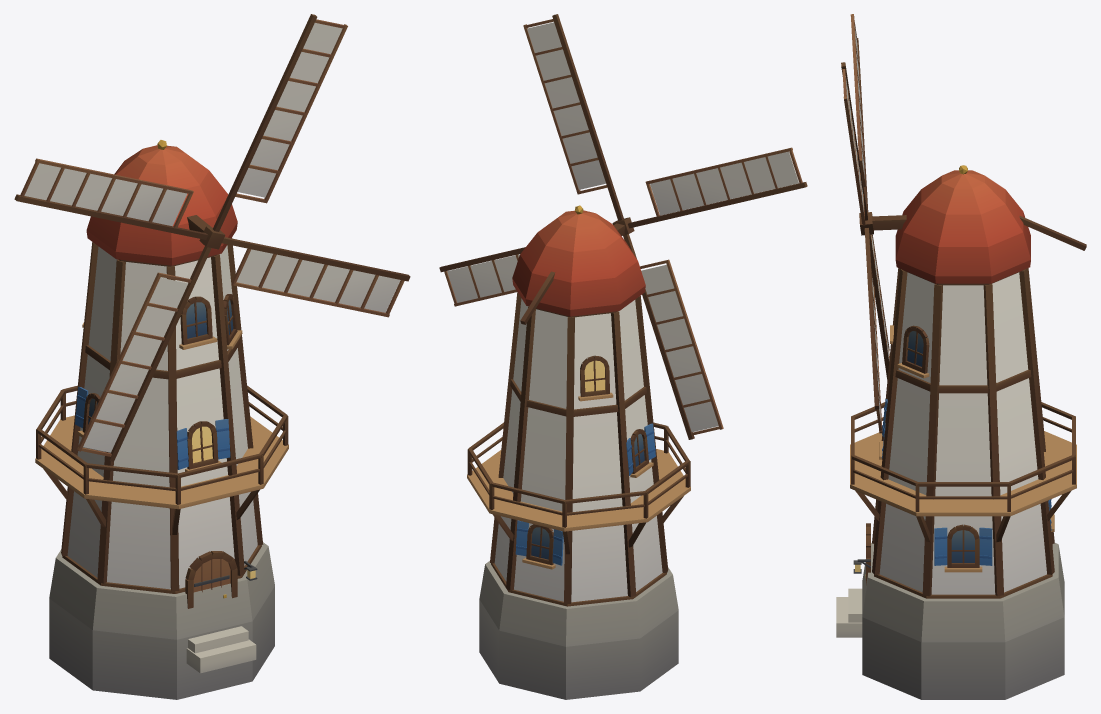
File: lm_windmill.glb
3 renders of one model, left to right at view 1: azimuth 30°, elevation 25°; view 2: azimuth 150°, elevation 25°; view 3: azimuth 270°, elevation 25°, orthographic. The views are drawn at different scales.
Visible parts, largest first — view 1: lm_windmill; view 2: lm_windmill; view 3: lm_windmill.
Part boxes in pixels (box(x1,y1,x2,y2)): lm_windmill: box(14, 14, 410, 699); lm_windmill: box(439, 14, 807, 699); lm_windmill: box(836, 14, 1086, 699).
Size of the model in its own units: 42.23 by 66.02 by 23.57.
1 material, 1 textured.
